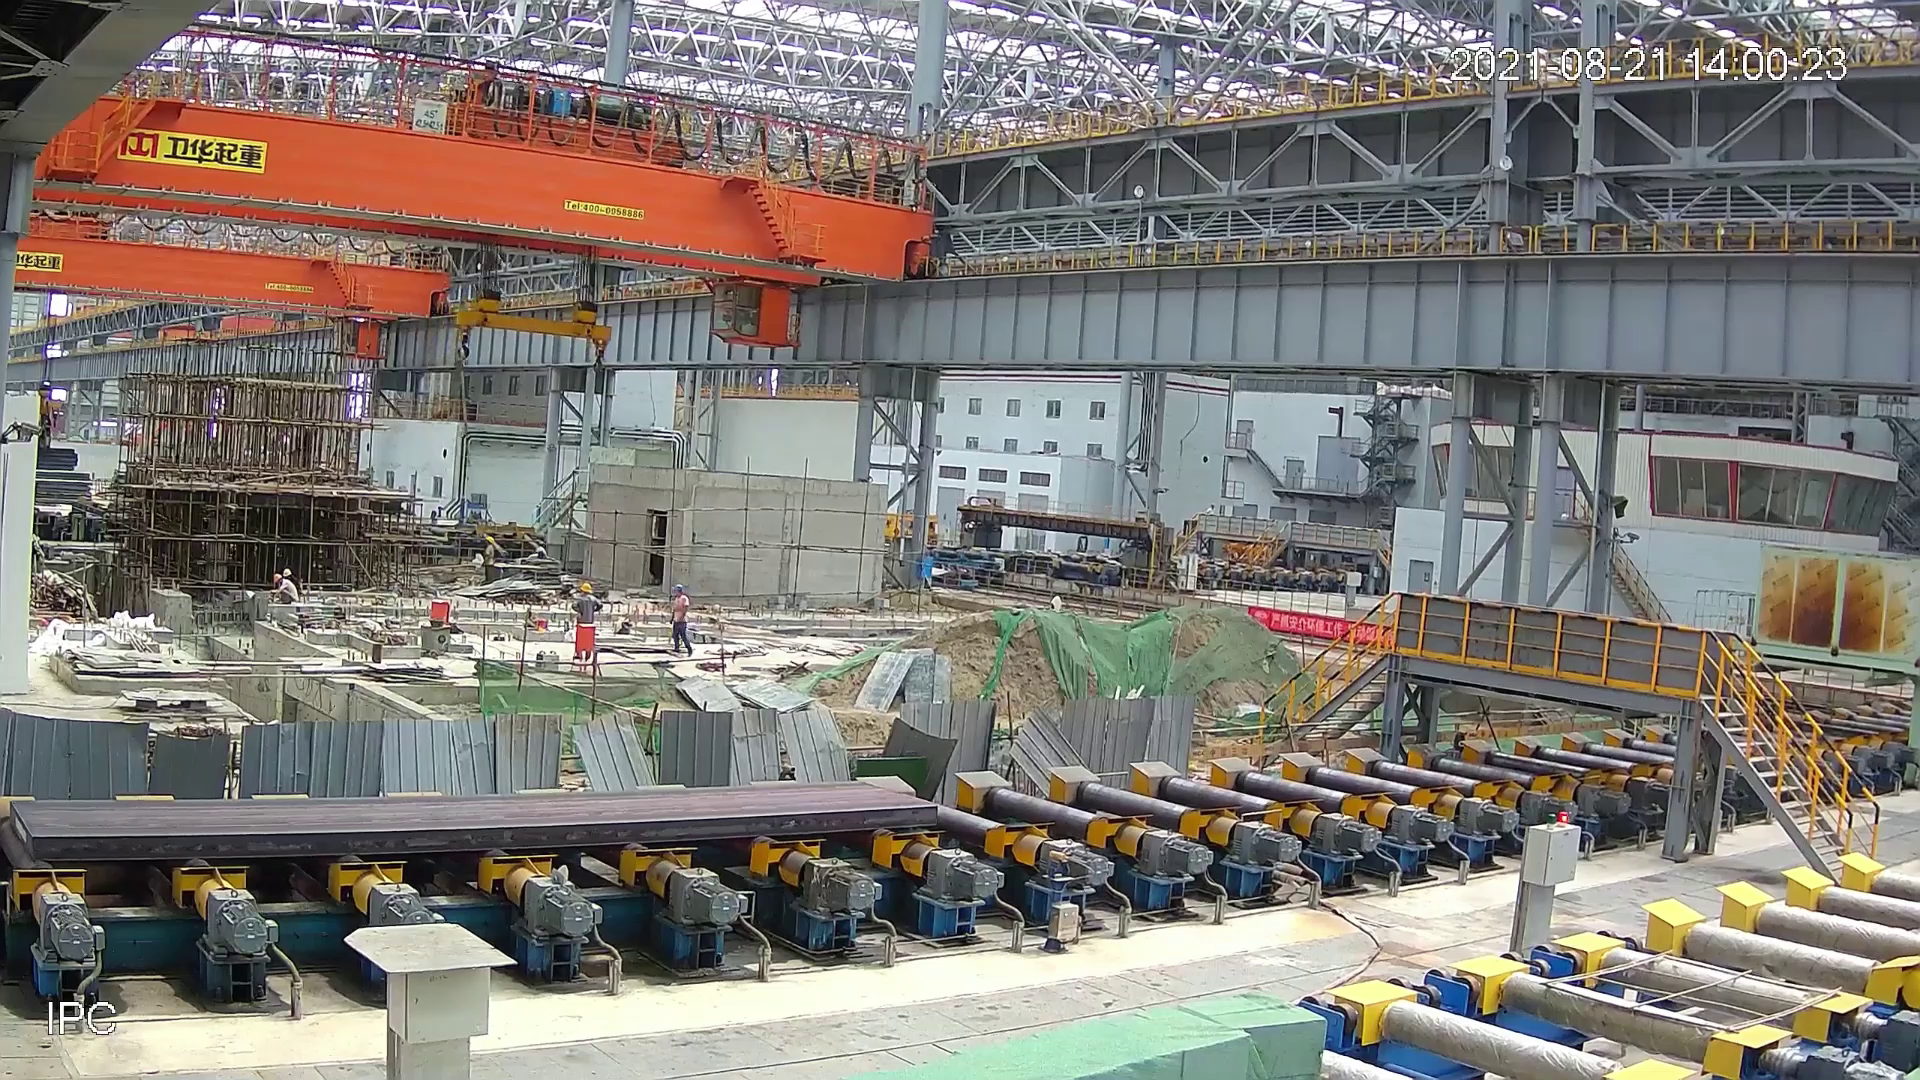slab: (7, 773, 943, 866)
